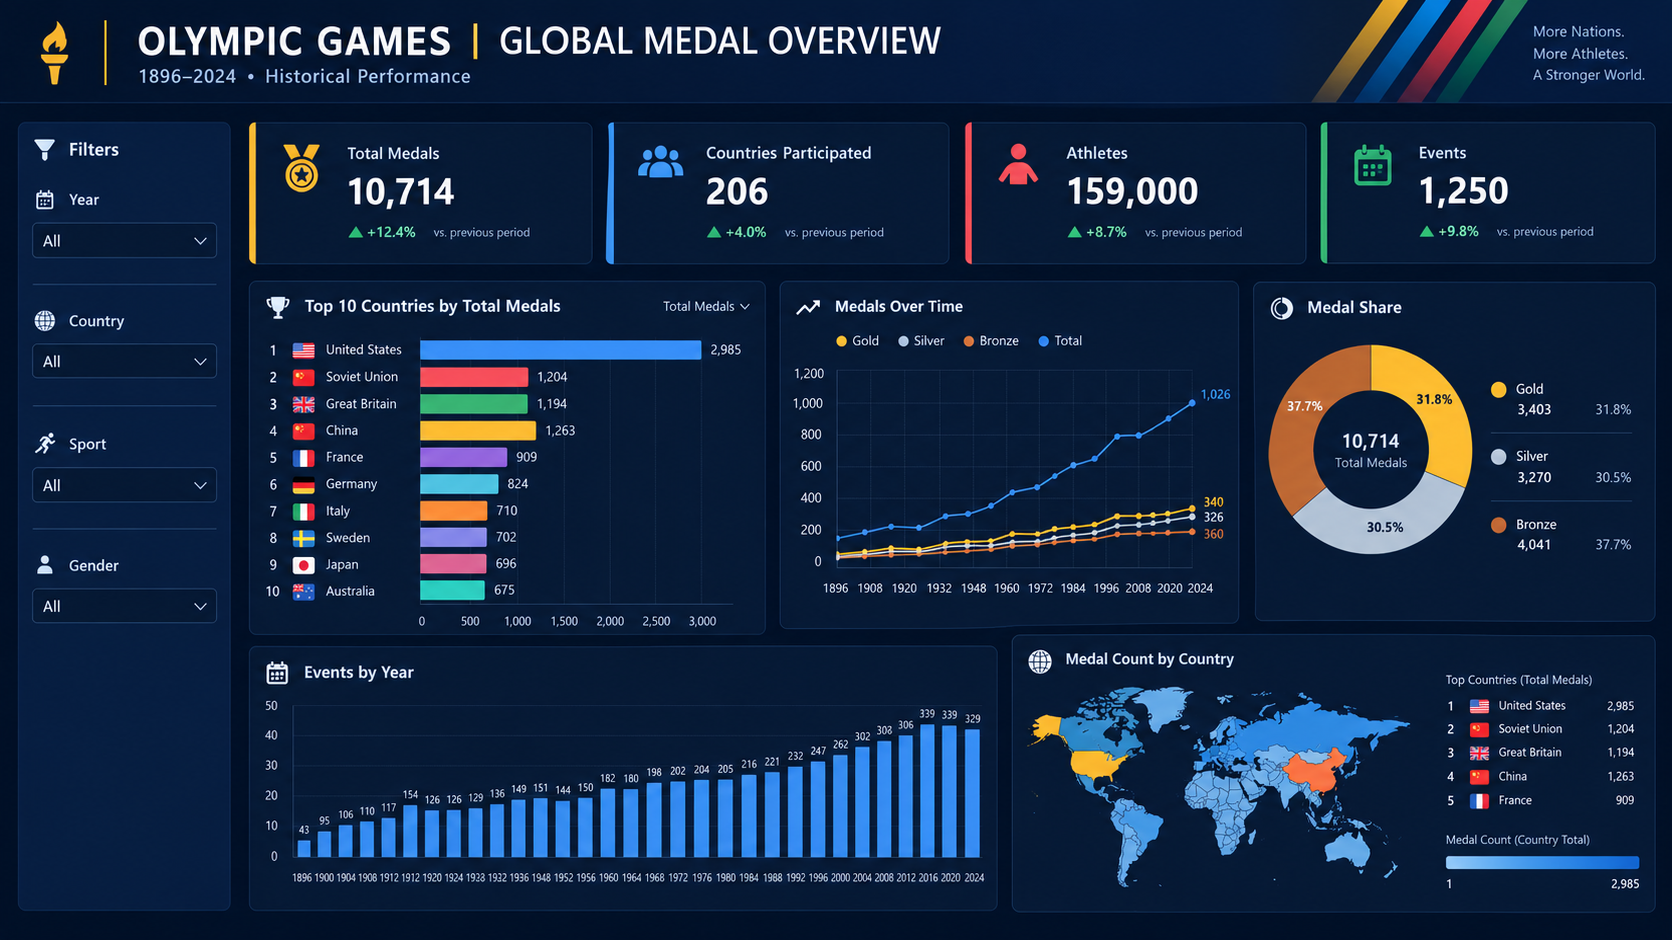

Layout of this report page (visuals, bound fields, positions):
{"tool":"powerbi","page":{"name":"Page 1","canvas":[1920,1080],"ordinal":0},"visuals":[{"type":"cardVisual","title":"Total Medal awarded","fields":{"Data":["Sum(Olympic_Games_Medal_Tally.total)"]},"box":[21.1,18.8,196.9,105.5],"z":0},{"type":"cardVisual","title":"Total Countries participated","fields":{"Data":["Count(Olympic_Athlete_Event_Results.country_noc)"]},"box":[218,18.8,257.9,105.5],"z":1000},{"type":"barChart","title":"Top 10 Countries","fields":{"Category":["Olympic_Games_Medal_Tally.country"],"Y":["Sum(Olympic_Games_Medal_Tally.total)"]},"box":[0,163.4,750.8,397.9],"z":2000},{"type":"lineChart","fields":{"Category":["Olympic_Games_Medal_Tally.year"],"Y":["Sum(Olympic_Games_Medal_Tally.total)"]},"box":[750.8,163.4,736.6,397.9],"z":3000},{"type":"clusteredColumnChart","fields":{"Category":["Olympic_Games_Medal_Tally.year"],"Y":["Olympic_Athlete_Event_Results.total event held"]},"box":[0,587.4,703.4,388.4],"z":4000},{"type":"slicer","fields":{"Values":["Calendar.Year"]},"box":[1602,0,296,102],"z":5000},{"type":"slicer","fields":{"Values":["olympic games.edition"]},"box":[1601,124.6,296.9,106],"z":6000},{"type":"slicer","fields":{"Values":["olympic country.country"]},"box":[1600,230,297.5,95],"z":7000},{"type":"actionButton","box":[604,18,100,34],"z":9000}]}

Visuals, with their boxes in screenshot pixels (x1, y1, x2, y2), scaled from the page's 1920x1080 canvas onto the 1672x940 screenshot:
"Total Medal awarded" cardVisual: box(18, 16, 190, 108)
"Total Countries participated" cardVisual: box(190, 16, 414, 108)
"Top 10 Countries" barChart: box(0, 142, 654, 489)
lineChart - Olympic_Games_Medal_Tally.year x Sum(Olympic_Games_Medal_Tally.total): box(654, 142, 1295, 489)
clusteredColumnChart - Olympic_Games_Medal_Tally.year x Olympic_Athlete_Event_Results.total event held: box(0, 511, 613, 849)
slicer - Calendar.Year: box(1395, 0, 1653, 89)
slicer - olympic games.edition: box(1394, 108, 1653, 201)
slicer - olympic country.country: box(1393, 200, 1652, 283)
actionButton: box(526, 16, 613, 45)
